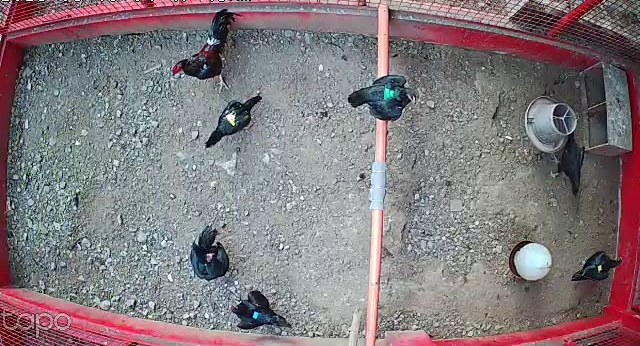Chicken: (343, 72, 423, 125), (206, 90, 264, 146), (229, 286, 292, 334), (185, 227, 238, 284), (546, 129, 588, 196), (572, 250, 626, 284)
Rooster: (170, 9, 244, 95)
Saddle_Color_Blue: (252, 307, 259, 320)
Saddle_Color_Yellow: (222, 107, 242, 129)
